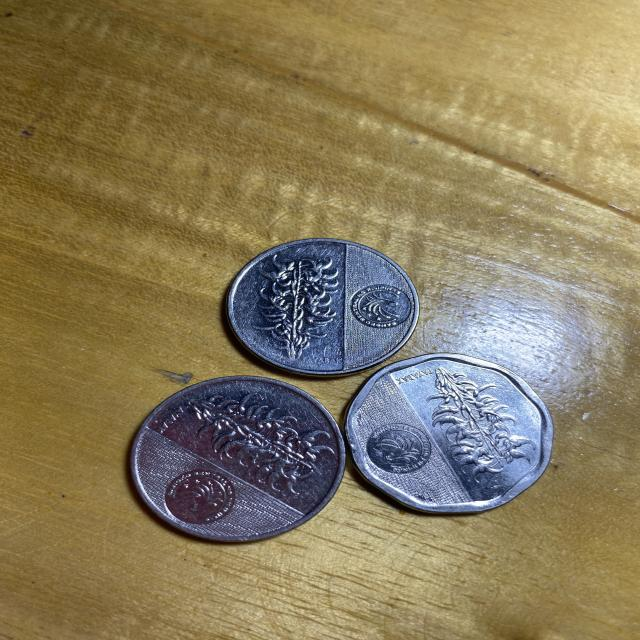5_New_Back: (186, 391, 327, 493), (424, 361, 542, 482), (260, 252, 344, 365)
